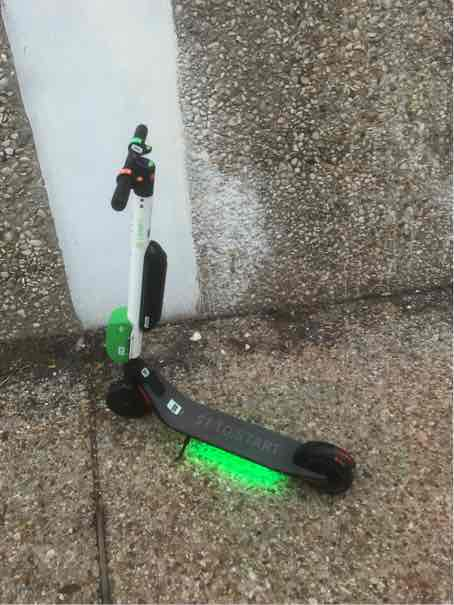scooter: (94, 119, 358, 510)
